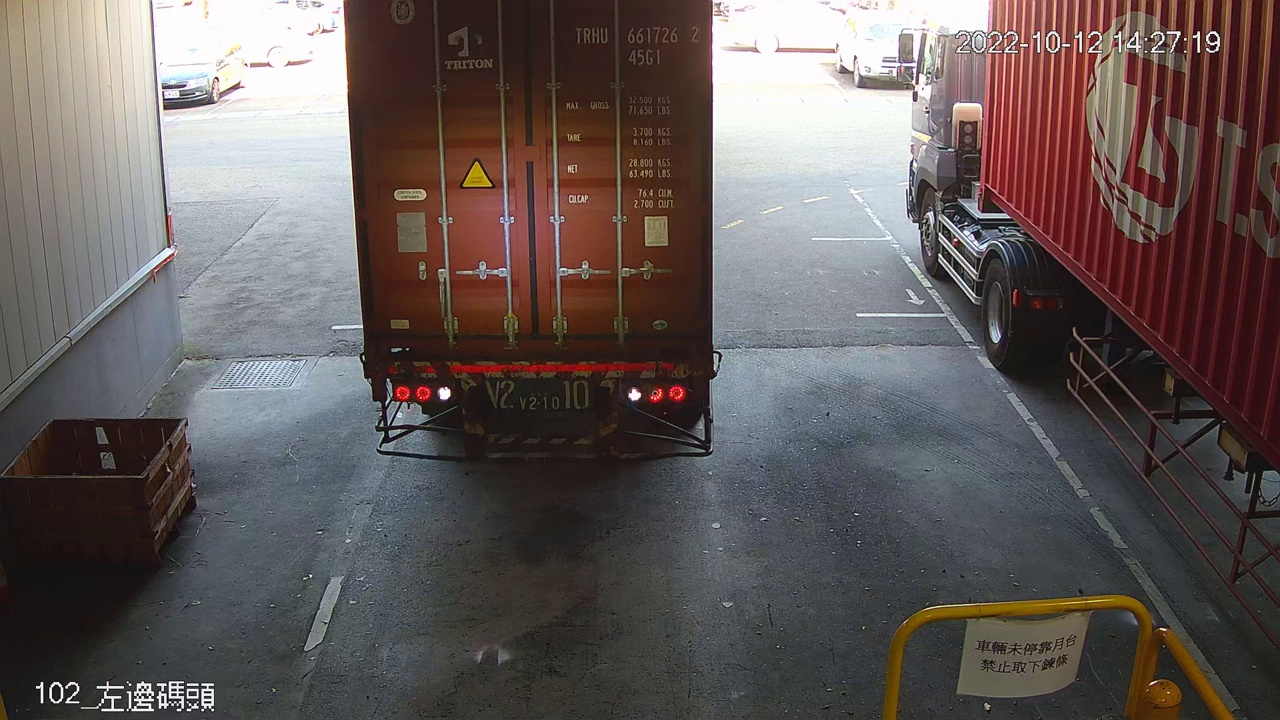container: (568, 19, 704, 70)
